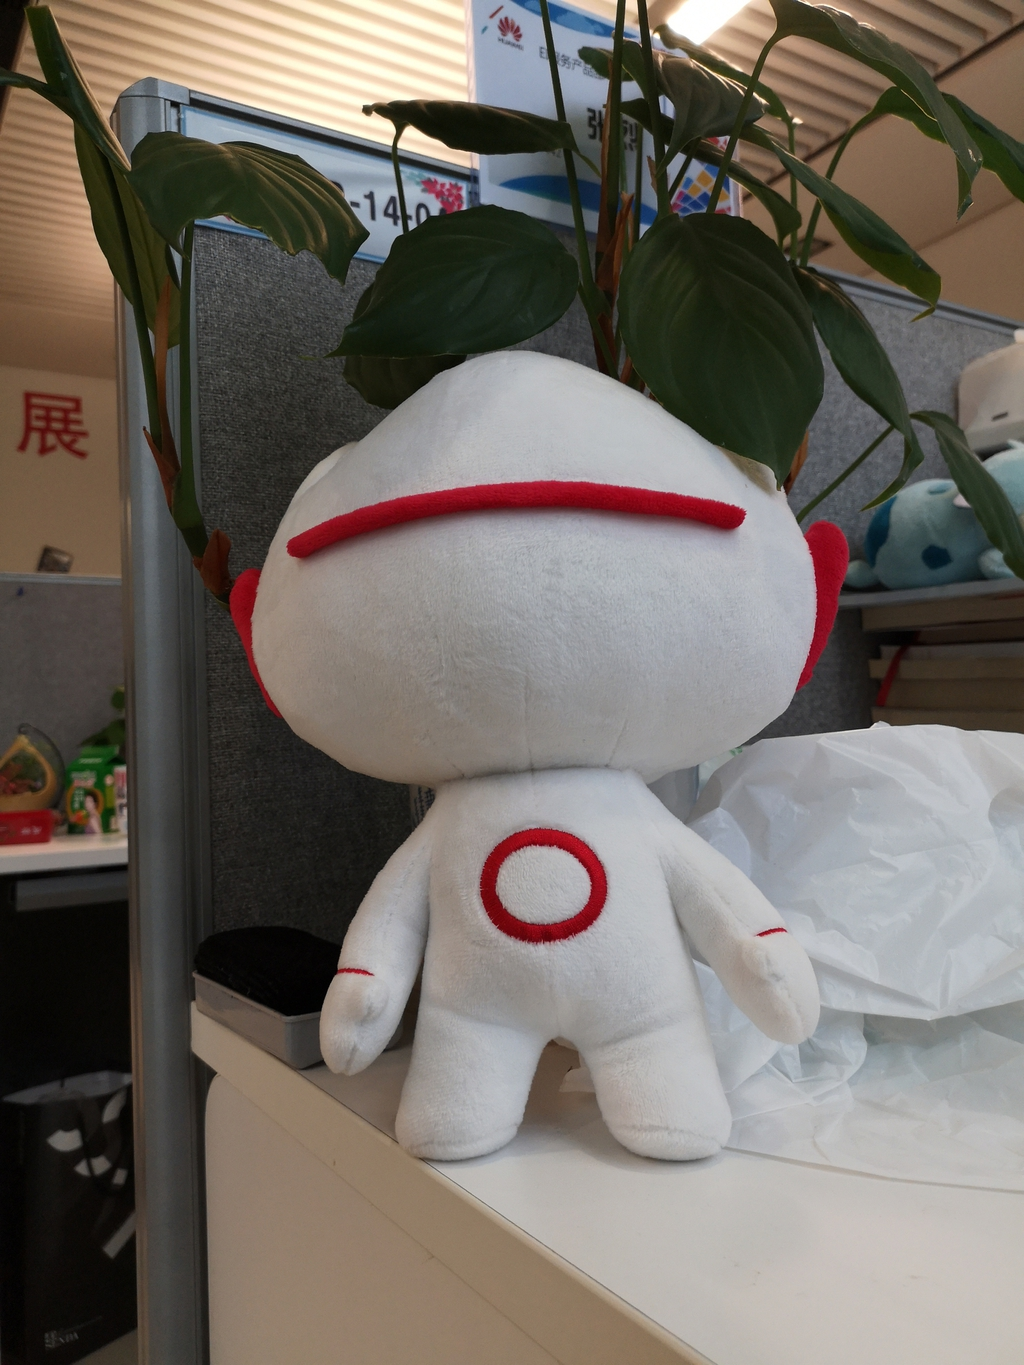yunbao: (198, 278, 874, 1189)
